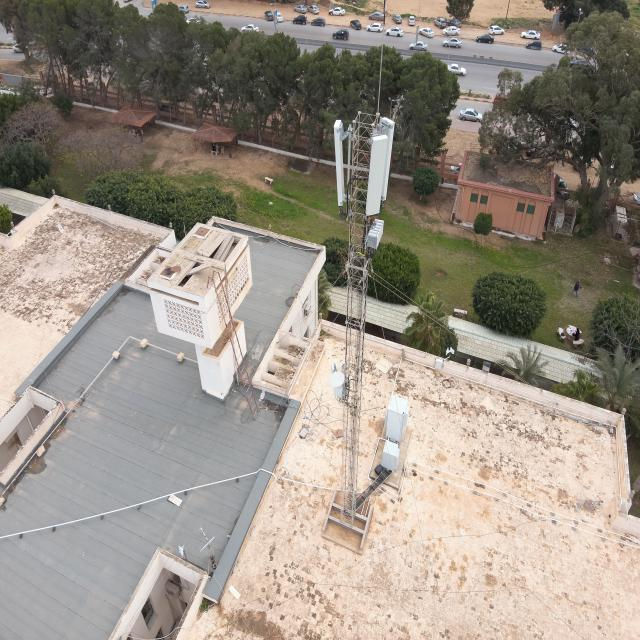antenna: (365, 129, 391, 218), (372, 113, 393, 203), (332, 119, 348, 208)
lighnig-rad: (376, 21, 387, 125)
microware-dish: (328, 359, 346, 392)
radio-unit: (366, 216, 387, 251)
